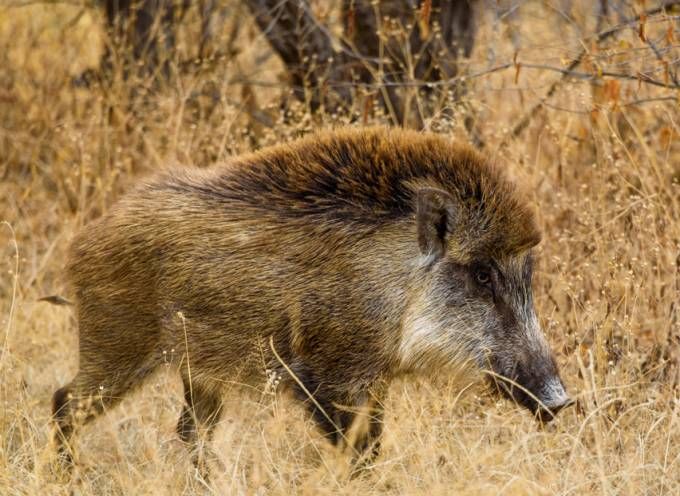wild boar: (36, 123, 592, 465)
